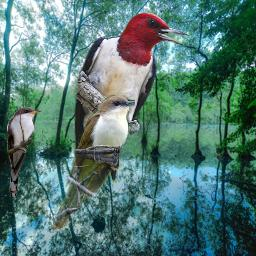Cuckoo: (49, 93, 135, 232), (6, 106, 41, 197)
Woodpecker: (70, 13, 193, 184)
